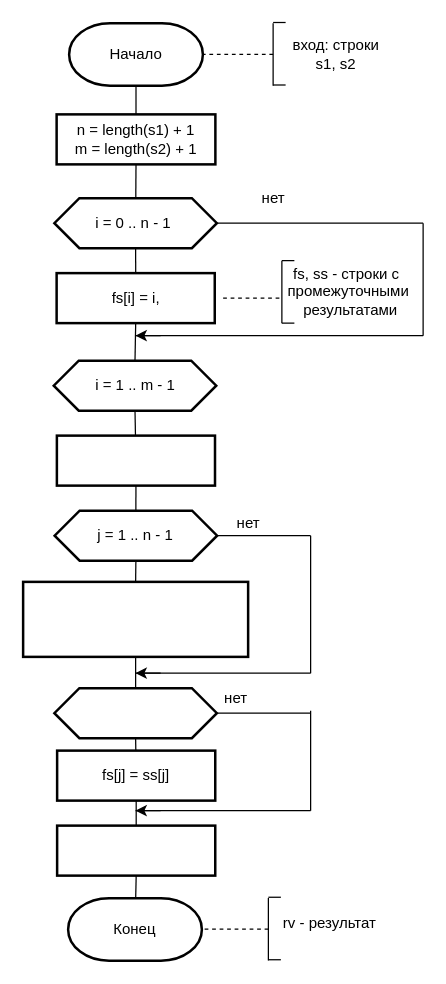
The diagram is 446 pixels wide and 984 high, and some of its shapes have lost their labels. The shapes that lost their labels are listed below. From the top down, each one's centre as x and y in pixels, then its label:
(135,460): ss[0] = i
(135,619): ss[j] = min(fs[j] + 1, ss[j - 1] + 1, fs[j - 1] + nequ(s2[i - 1], s1[j - 1]))
(135,712): j = 0 .. n - 1
(135,850): rv = ss[n - 1]
